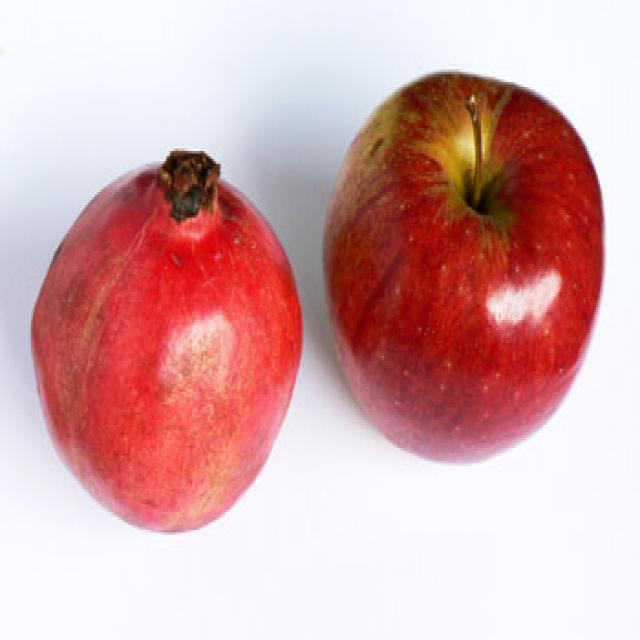apple: (318, 69, 609, 466)
pomegranate: (29, 146, 306, 540)
